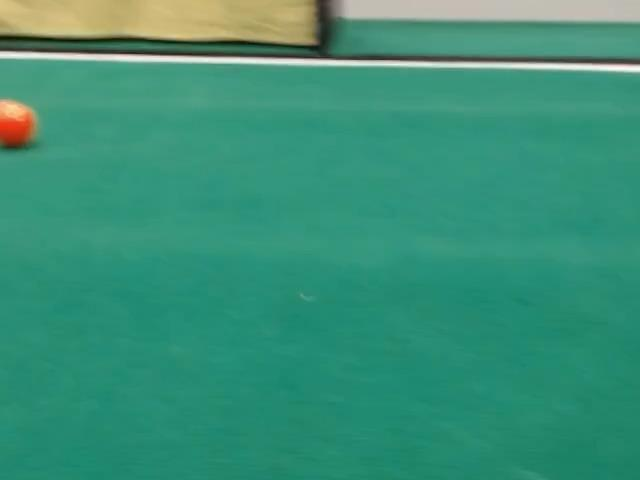Ball: (0, 99, 37, 148)
